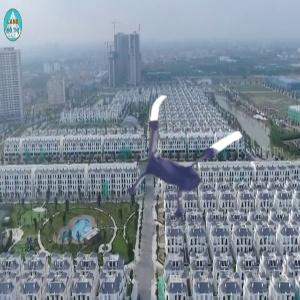drone: (110, 91, 256, 237)
